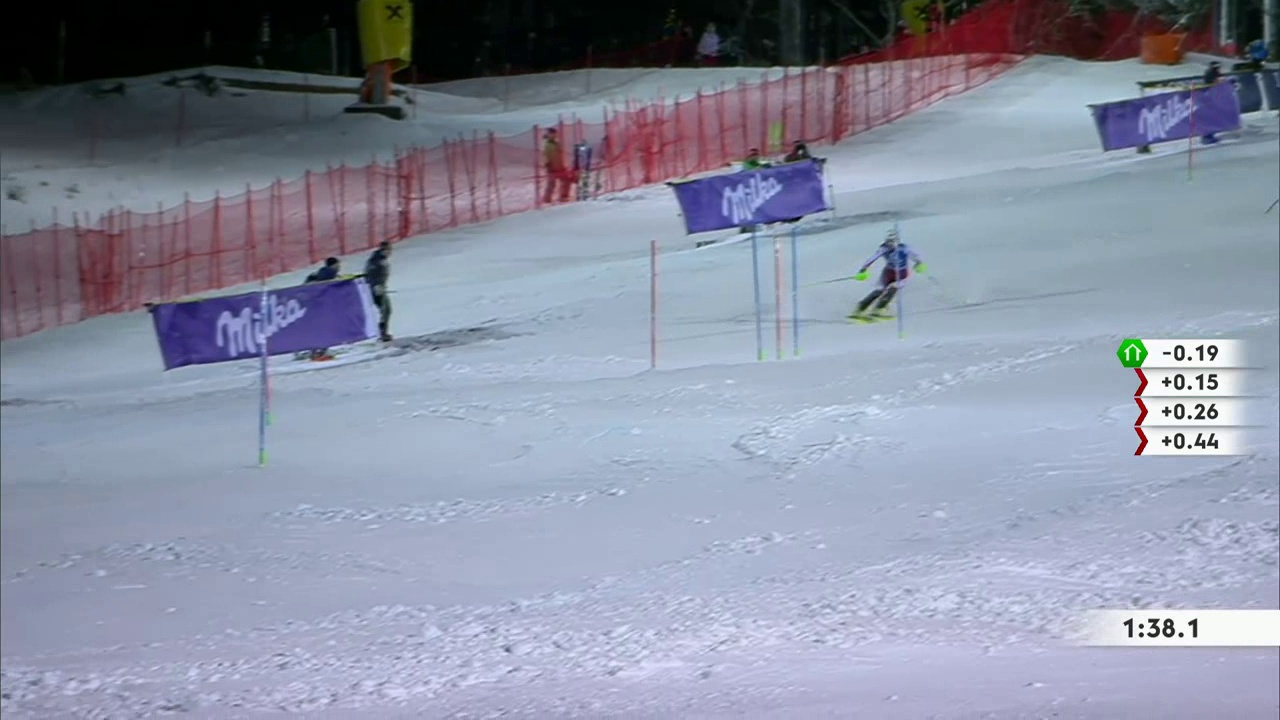milka: (159, 287, 359, 367), (665, 165, 827, 233)
